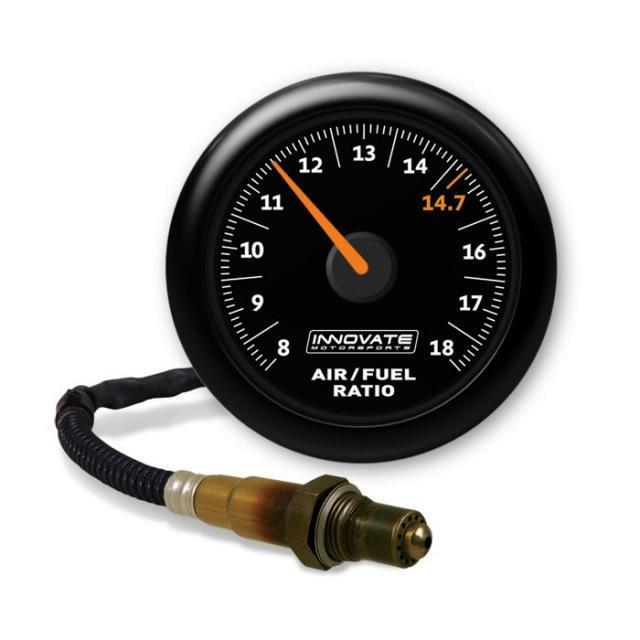Needle_Tip: (259, 150, 300, 192)
Needle_base: (320, 230, 400, 315)
max_value: (416, 327, 474, 373)
min_value: (262, 329, 308, 373)
